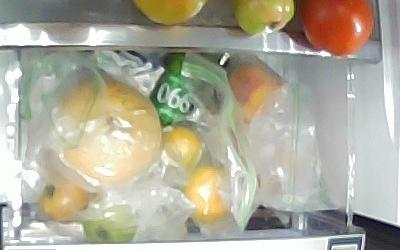peach_vinyl: (226, 67, 281, 124)
pear_vinyl: (58, 79, 160, 188)
tangerine_vinyl: (184, 166, 227, 223), (164, 124, 200, 166)
tomato_vinyl: (82, 204, 138, 243), (42, 178, 88, 220)
